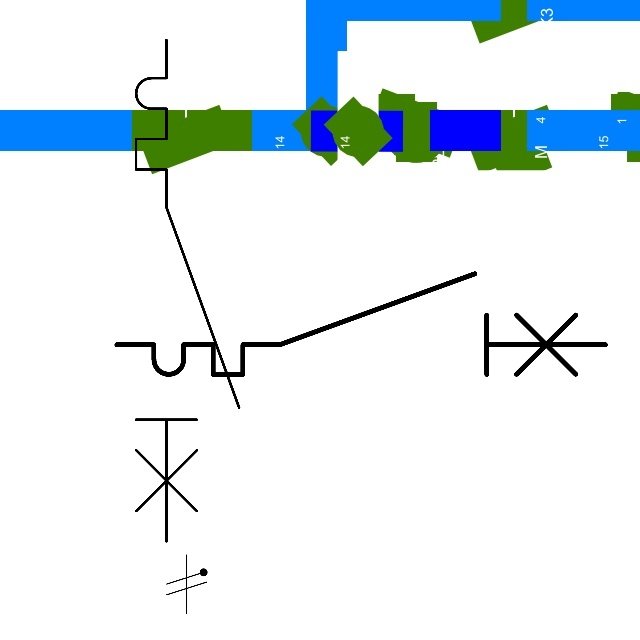interruptor_termomagnetico: (123, 27, 252, 554), (104, 261, 618, 387)
